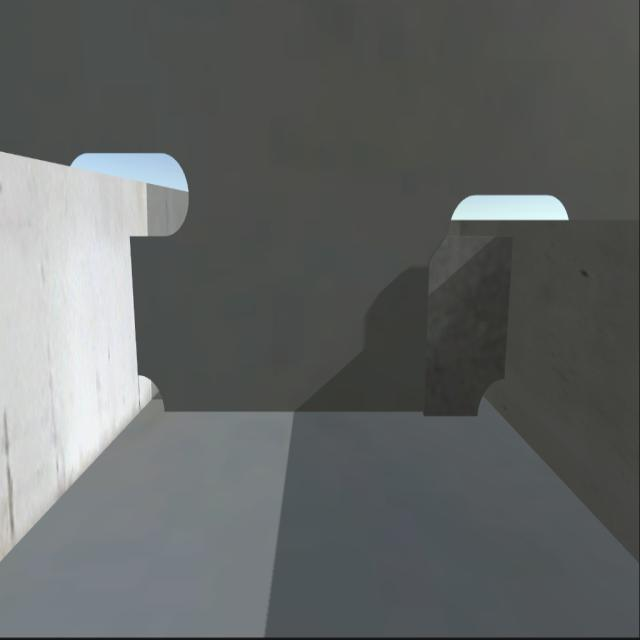fillet_hole: (474, 369, 522, 429), (134, 364, 171, 422)
fillet_yong_jeop_jang: (164, 398, 480, 419)
longi_yong_jeop_jang: (499, 236, 514, 382), (132, 232, 140, 374)
plate_CP03: (424, 230, 522, 422)
